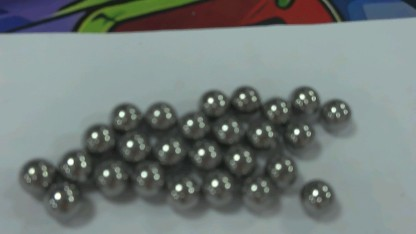ironball: (12, 154, 57, 193), (42, 179, 80, 219), (235, 175, 276, 208), (298, 176, 336, 211), (321, 90, 353, 129), (163, 170, 199, 203), (96, 160, 126, 199), (202, 170, 236, 204), (60, 149, 93, 181), (111, 100, 145, 130), (135, 160, 161, 199), (267, 151, 296, 185), (234, 83, 264, 115), (83, 120, 112, 153), (214, 112, 246, 141), (146, 100, 175, 132), (196, 89, 231, 115), (225, 142, 253, 174), (155, 137, 187, 164), (118, 130, 146, 160), (290, 85, 316, 117), (252, 121, 279, 151), (282, 120, 313, 146), (261, 95, 292, 121), (190, 139, 218, 167), (181, 111, 207, 140)
